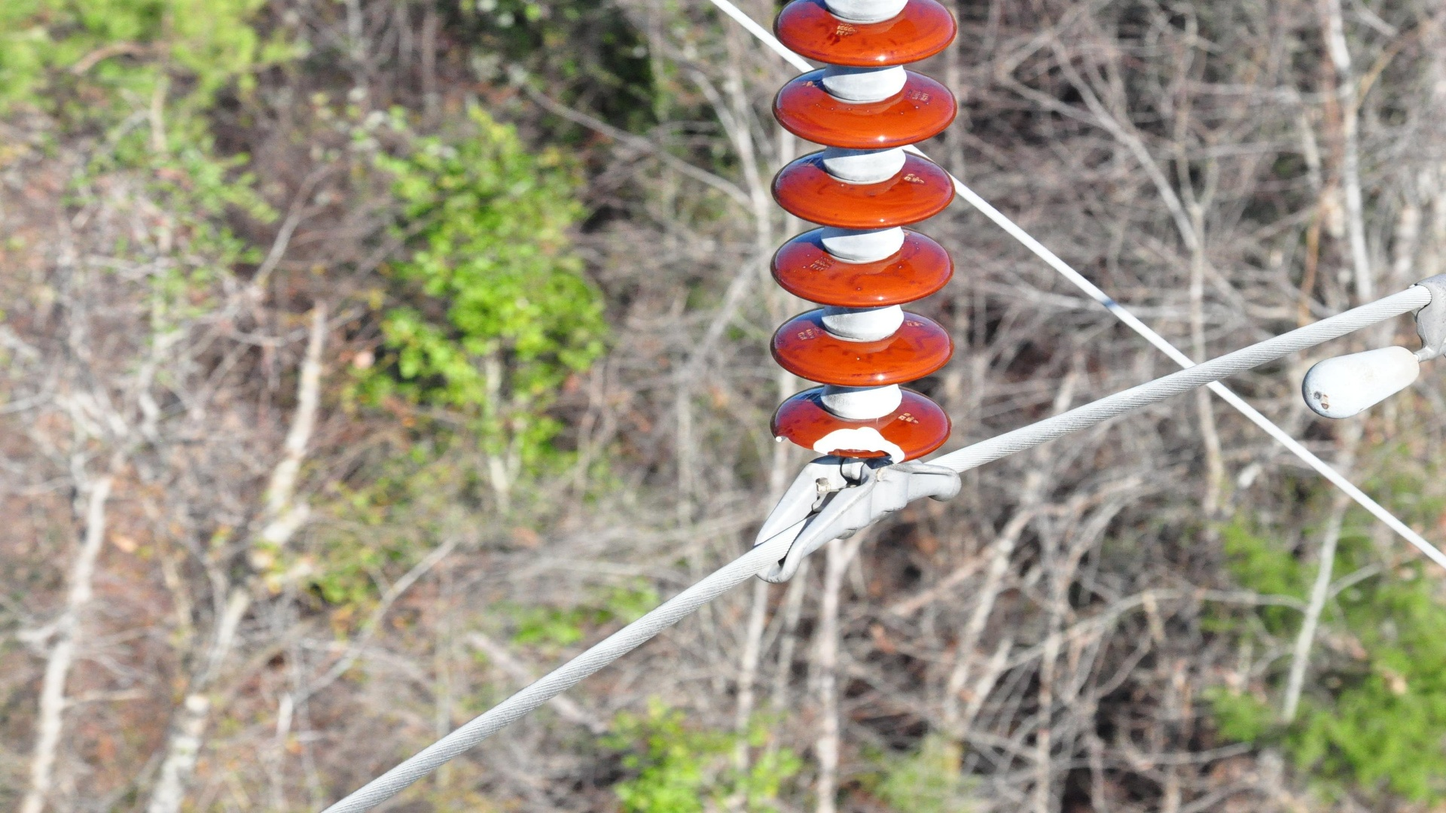damper: (1292, 260, 1446, 429)
